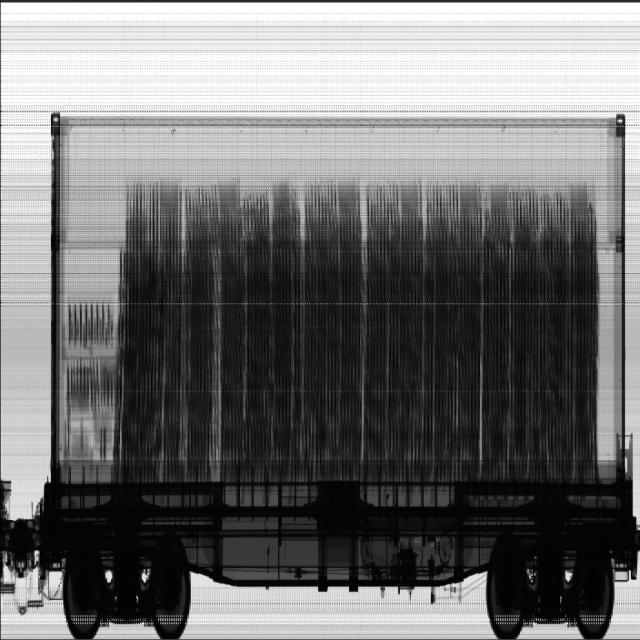spare parts: (61, 302, 118, 475)
